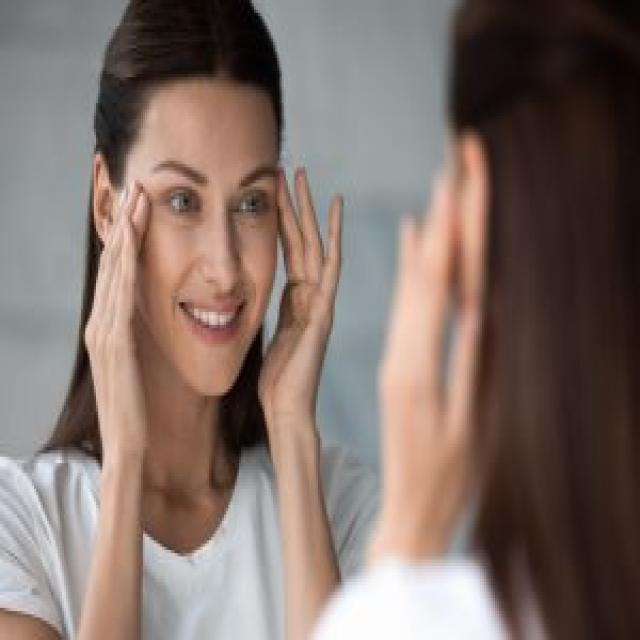Oily-Skin: (200, 178, 247, 294), (127, 107, 191, 162)
